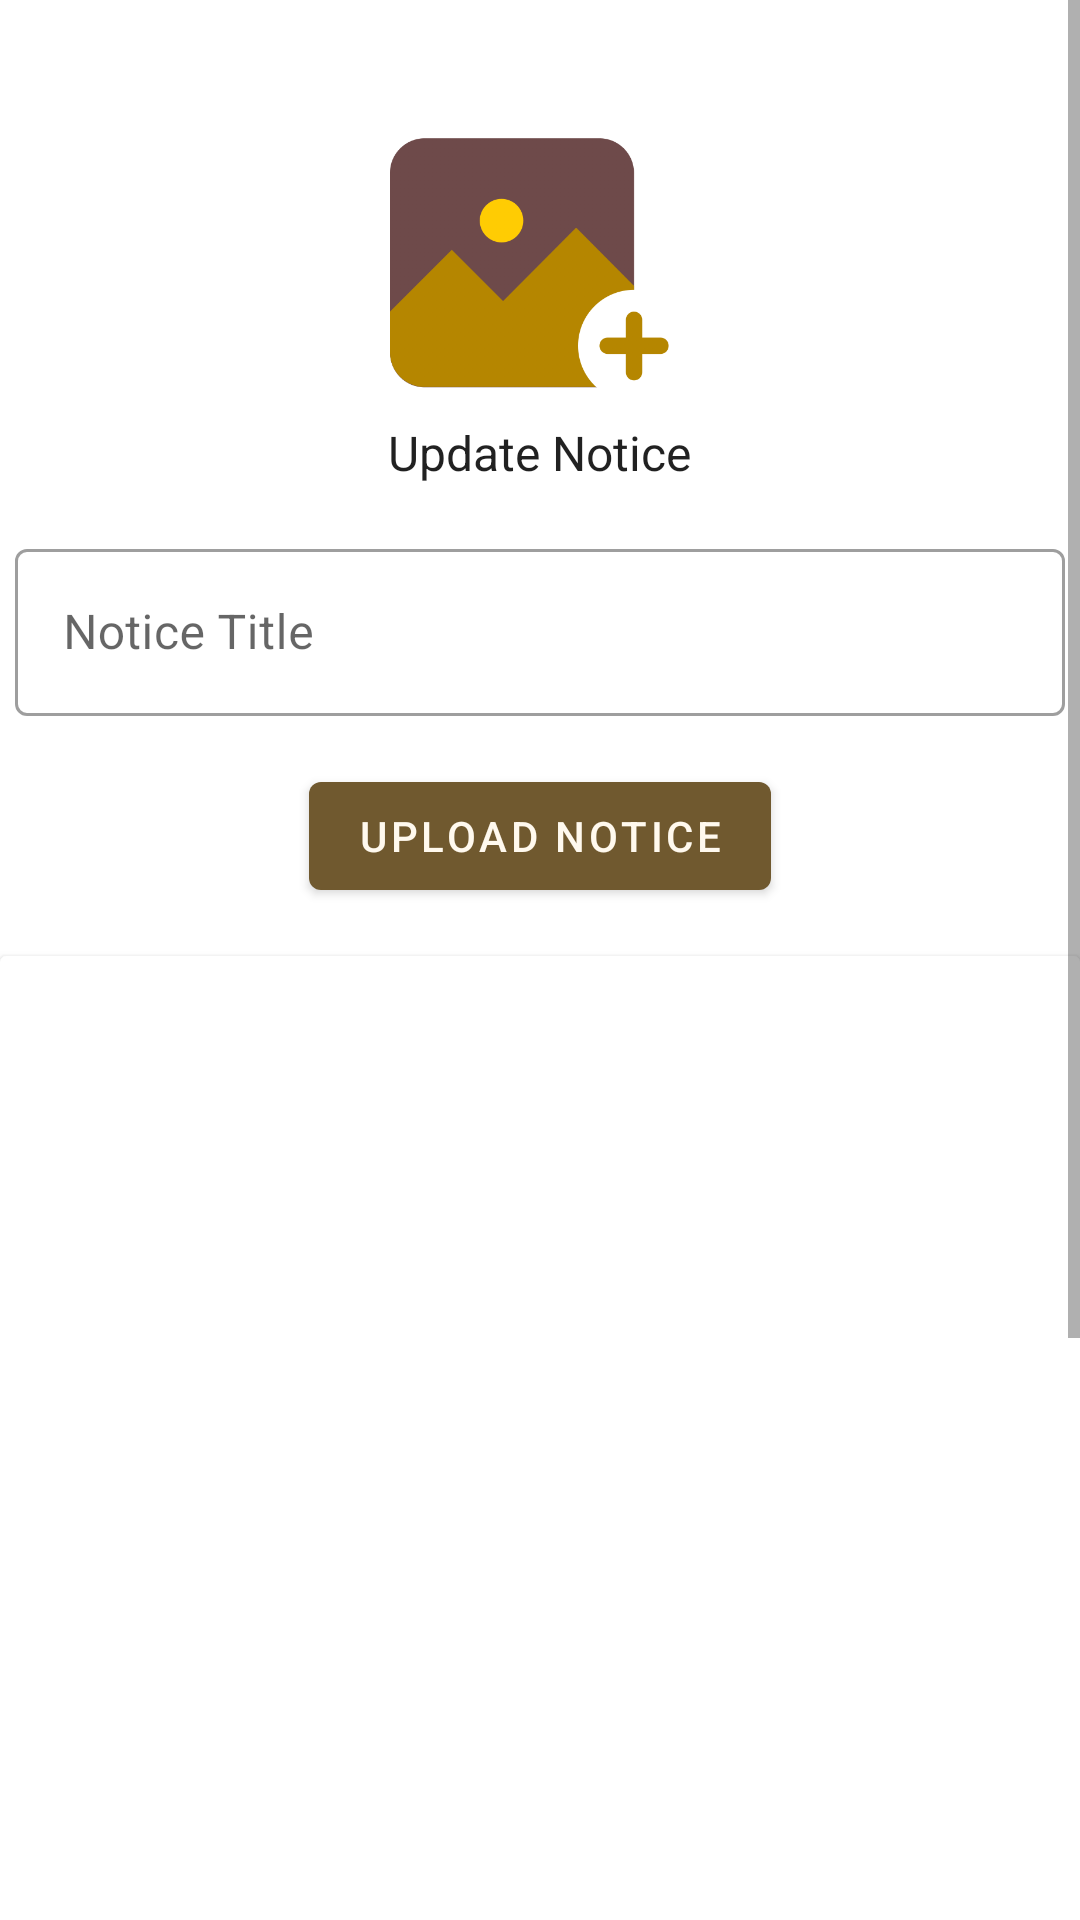

Named icons in this screenshot (1080×1920) and their centers, (x=x, y=y):
photoupload: (x=529, y=263)
